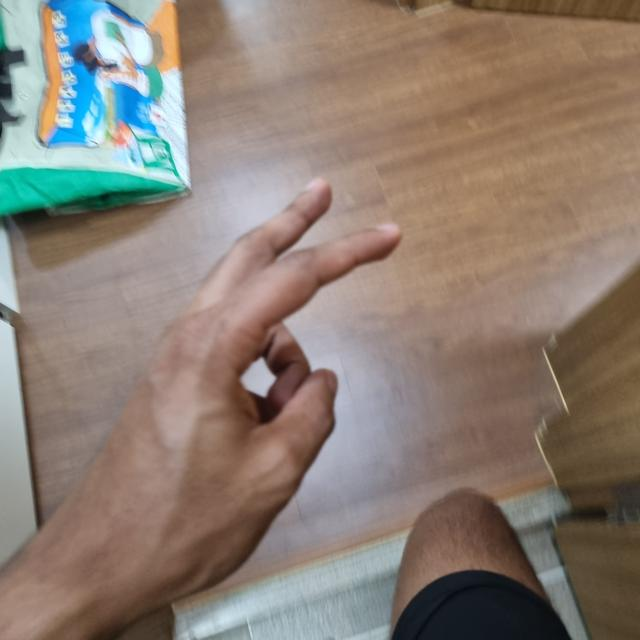Scissors: (54, 185, 401, 608)
